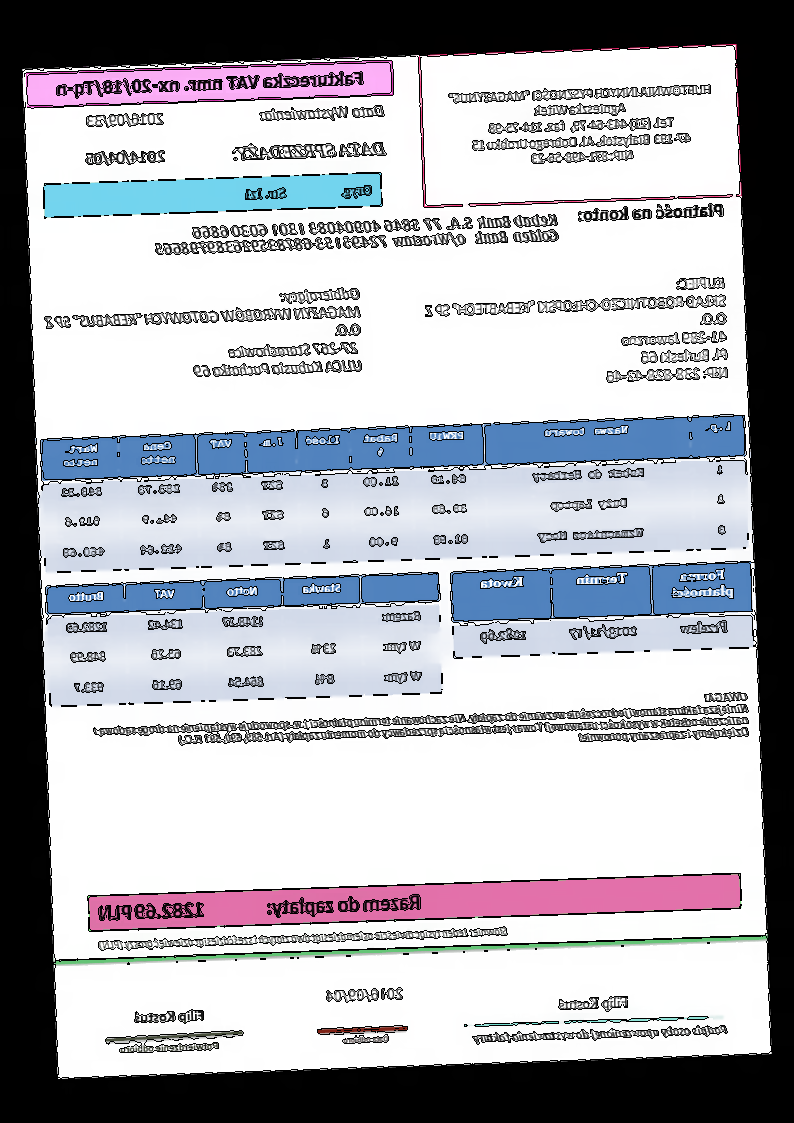Table: (39, 411, 751, 576), (44, 570, 445, 710), (450, 560, 756, 660)
TextBox: (90, 686, 753, 763), (421, 271, 732, 394), (39, 284, 365, 388), (446, 81, 719, 171), (151, 211, 562, 260), (98, 920, 513, 953), (95, 887, 424, 926), (54, 69, 369, 100), (467, 1022, 731, 1048), (231, 135, 389, 165), (576, 199, 730, 226), (242, 178, 378, 205), (259, 98, 390, 125), (322, 980, 406, 1006), (83, 144, 170, 169), (118, 1038, 221, 1056), (128, 1004, 209, 1026), (557, 991, 633, 1014), (84, 110, 167, 130), (339, 1030, 395, 1048)
